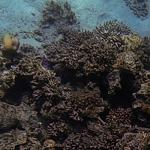dead: (1, 2, 148, 147)
